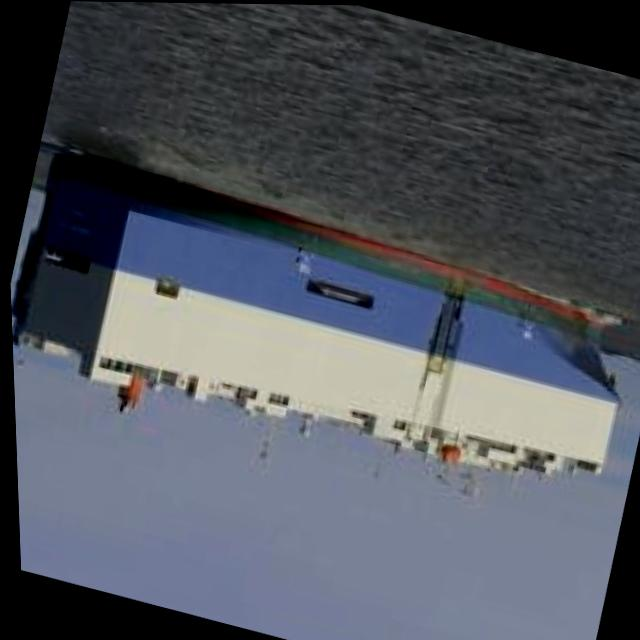ship2: (9, 151, 623, 509)
